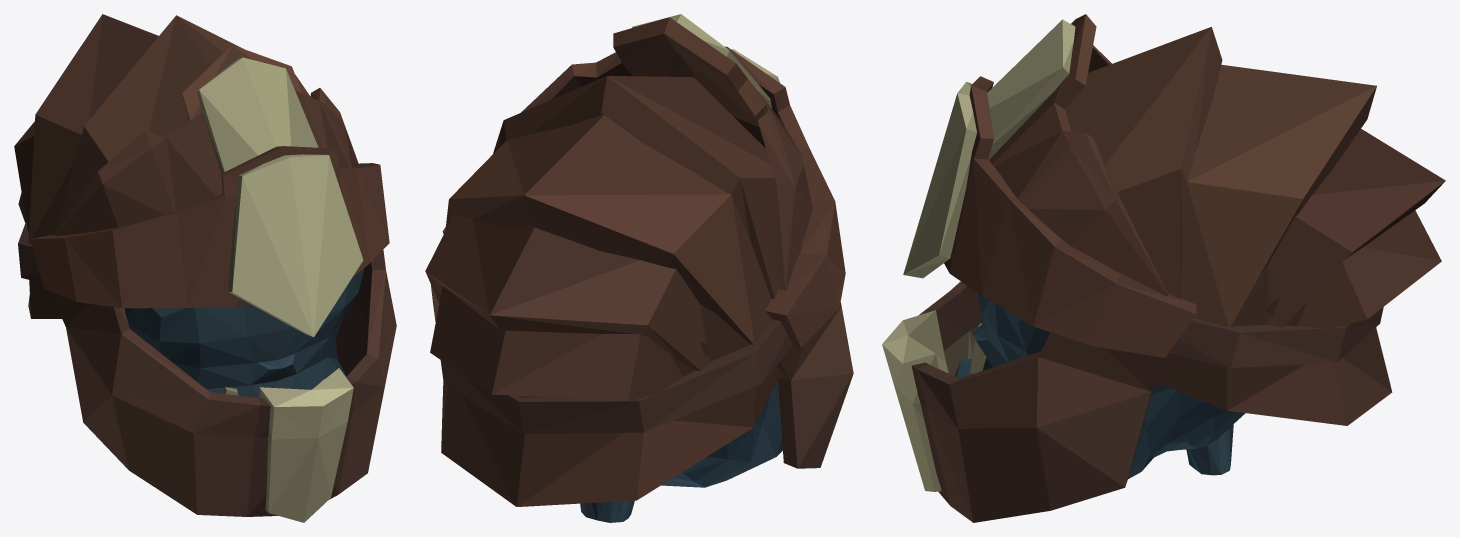
File: Goblin_Blue_Head_Helm_1.fbx
3 views of the same model, side by side, from view 1: azimuth 30°, elevation 25°; view 2: azimuth 150°, elevation 25°; view 3: azimuth 270°, elevation 25° (orthographic). The views are drawn at different scales.
Parts seen in each view (by area): view 1: Goblin_Blue_Head_Helm_1; view 2: Goblin_Blue_Head_Helm_1; view 3: Goblin_Blue_Head_Helm_1.
Part boxes in pixels (bbox=[...]): Goblin_Blue_Head_Helm_1: bbox=[14, 14, 396, 522]; Goblin_Blue_Head_Helm_1: bbox=[425, 14, 853, 522]; Goblin_Blue_Head_Helm_1: bbox=[882, 14, 1445, 522].
Size of the model in its own units: 1.01 by 1.33 by 1.43.
